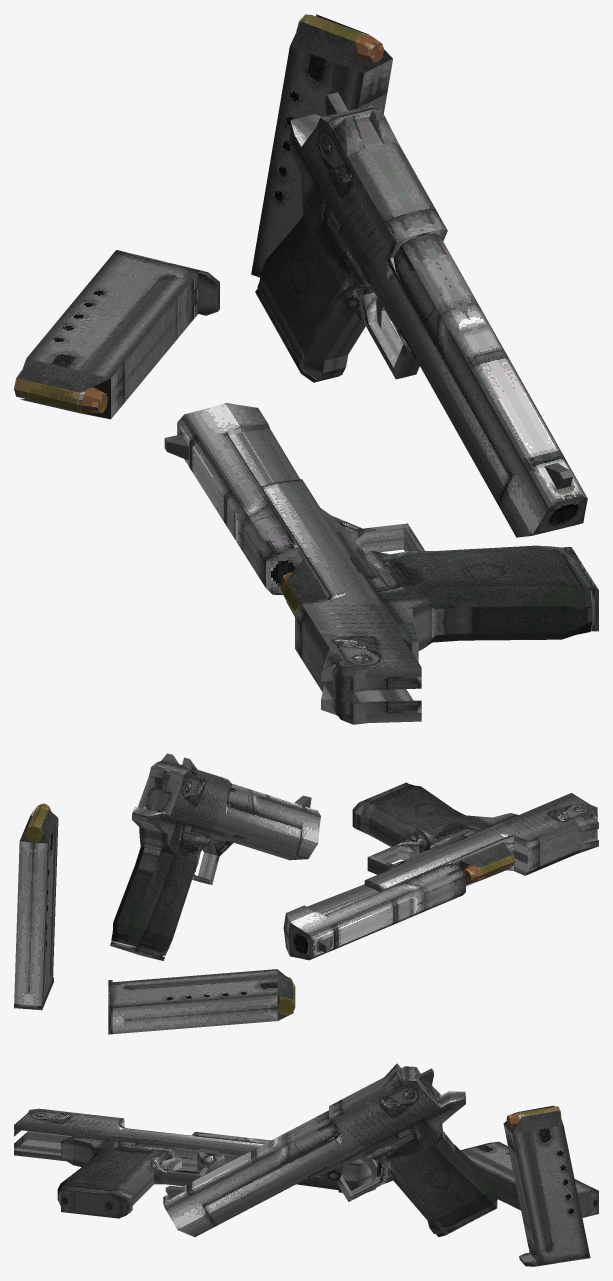
Rendered from ps1__psx_style_-_desert_eagle_-_lowpoly.glb.
3 views of the same model, one above another, from view 1: azimuth 30°, elevation 25°; view 2: azimuth 150°, elevation 25°; view 3: azimuth 270°, elevation 25° (orthographic). The views are drawn at different scales.
Visible parts, largest first — view 1: Cube_002, Cube_007, Cube_005, Cube, Cube_011, Cube_010, Cylinder_003, Cube_006, Cylinder_002; view 2: Cube_007, Cube_002, Cube_011, Cube, Cube_010, Cube_005, Cube_006, Cylinder_001, Cylinder_002, Cube_003, Cube_001; view 3: Cube_002, Cube_005, Cube_010, Cube_007, Cube, Cube_011, Cube_006, Cylinder_002, Cube_001.
Part boxes in pixels (x1,y1,x2,y2): Cube_002: (257,114,587,537); Cube_007: (164,403,592,662); Cube_005: (299,105,511,505); Cube: (260,479,421,724); Cube_011: (19,250,219,419); Cube_010: (251,14,392,277); Cylinder_003: (14,370,107,413); Cube_006: (286,547,598,631); Cylinder_002: (296,14,384,62); Cube_007: (283,784,518,960); Cube_002: (111,783,320,955); Cube_011: (108,969,293,1034); Cube: (364,793,598,891); Cube_010: (14,809,58,1010); Cube_005: (138,753,302,855); Cube_006: (352,782,511,884); Cylinder_001: (463,850,514,882); Cylinder_002: (25,803,50,841); Cube_003: (152,771,170,811); Cube_001: (110,941,164,960); Cube_002: (163,1090,497,1236); Cube_005: (203,1063,440,1226); Cube_010: (503,1105,590,1266); Cube_007: (57,1132,382,1213); Cube: (14,1108,263,1161); Cube_011: (461,1141,598,1217); Cube_006: (61,1187,127,1218); Cylinder_002: (506,1106,561,1127); Cube_001: (436,1201,497,1236).
Size of the model in its own units: 4.66 by 2.7 by 8.63.
1 material, 1 textured.
